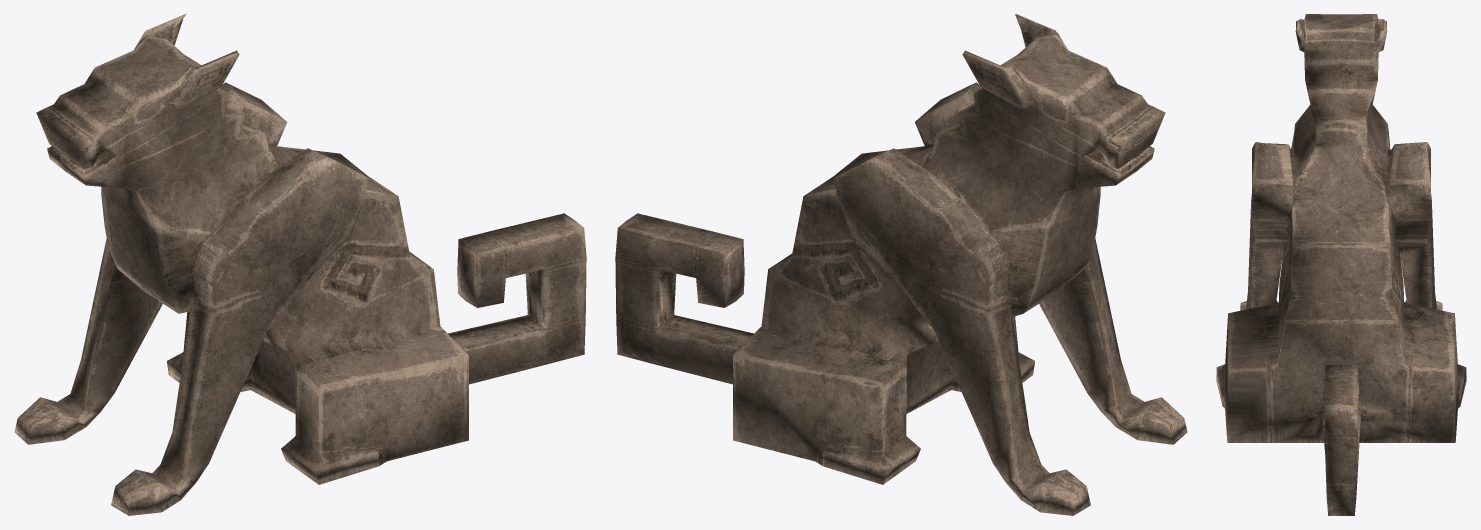
3 views of the same model, side by side, from view 1: azimuth 30°, elevation 25°; view 2: azimuth 150°, elevation 25°; view 3: azimuth 270°, elevation 25° (orthographic). The views are drawn at different scales.
Parts seen in each view (by area): view 1: defaultMaterial; view 2: defaultMaterial; view 3: defaultMaterial.
Part boxes in pixels (x1,y1,x2,y2): defaultMaterial: (14, 14, 586, 515); defaultMaterial: (615, 14, 1187, 515); defaultMaterial: (1216, 14, 1466, 515).
Bounding box in the file's own units: 99.85 × 200 × 150.
1 material, 1 textured.
